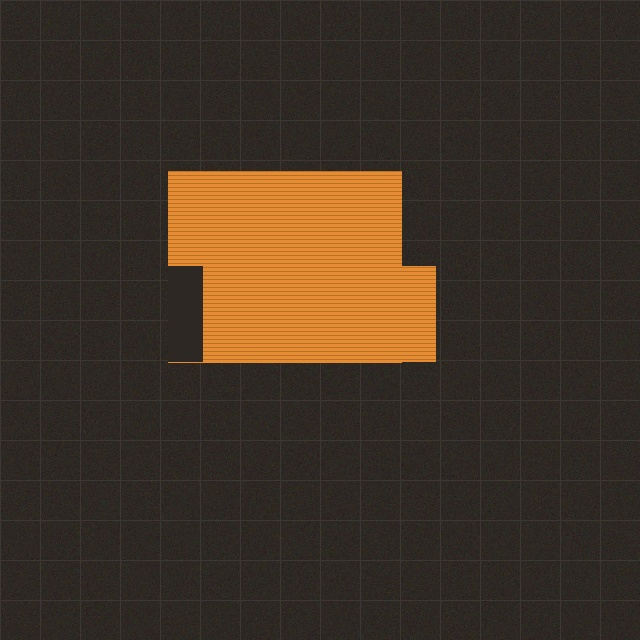layer_shift: (158, 246, 446, 286)
